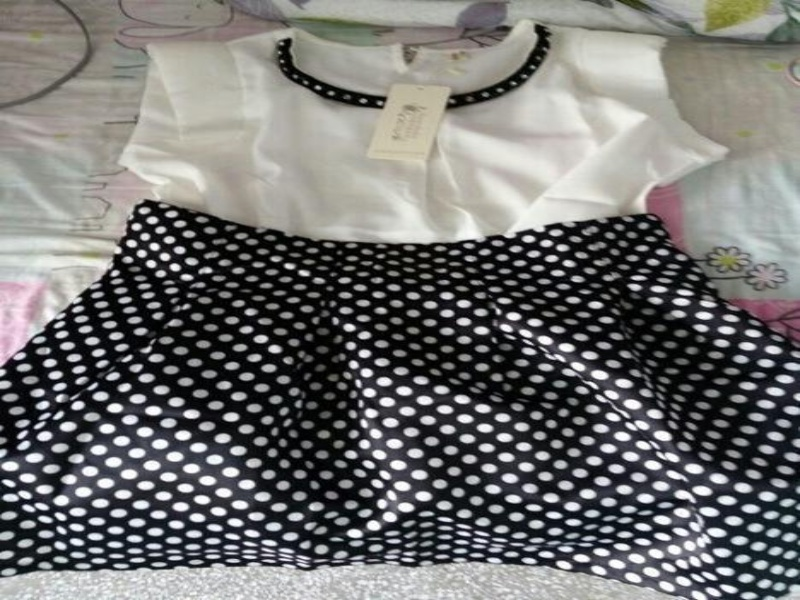skirt: (0, 195, 798, 599)
vest: (108, 14, 738, 290)
